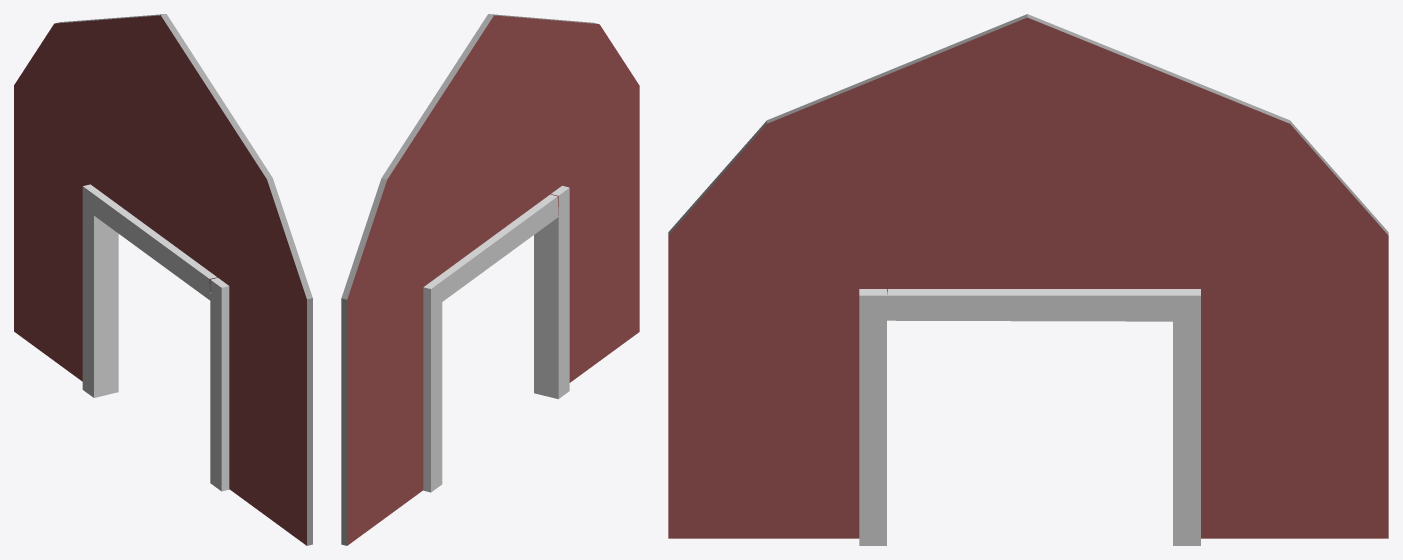
The model's file is BarnFRONT.fbx.
3 renders of one model, left to right at view 1: azimuth 30°, elevation 25°; view 2: azimuth 150°, elevation 25°; view 3: azimuth 270°, elevation 25°, orthographic. The views are drawn at different scales.
Visible parts, largest first — view 1: pCube131; view 2: pCube131; view 3: pCube131.
Part boxes in pixels (left/top/right/bottom): pCube131: left=14, top=14, right=312, bottom=545; pCube131: left=341, top=14, right=639, bottom=545; pCube131: left=668, top=14, right=1388, bottom=545.
Size of the model in its own units: 2.1 by 34.47 by 43.12.
